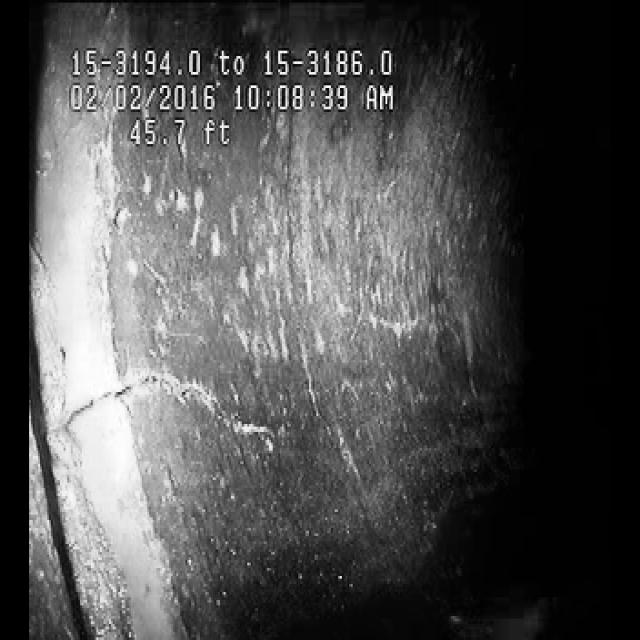Crack: (60, 338, 253, 468)
